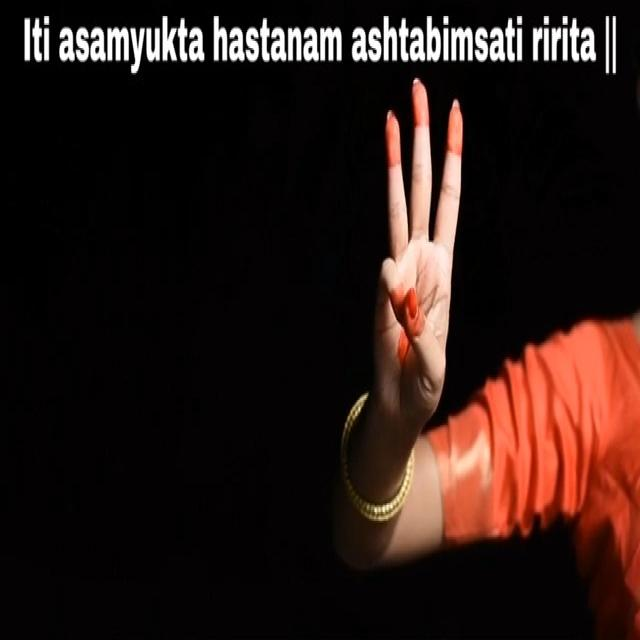Trishula: (364, 73, 482, 450)
bangle: (330, 392, 421, 534)
text: (12, 5, 622, 86)
